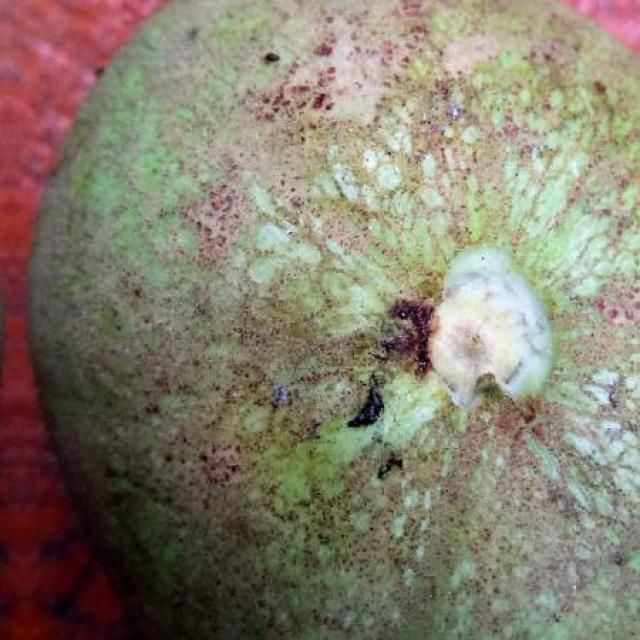Scab: (31, 0, 640, 640)
